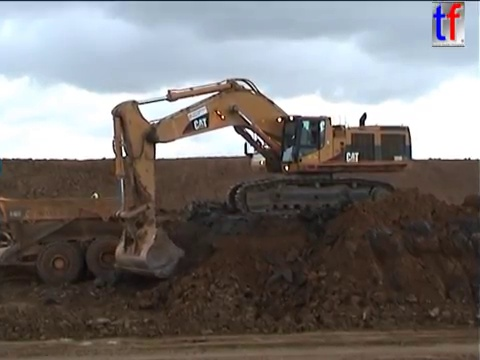excavator: (108, 75, 415, 281)
truck: (1, 195, 158, 286)
worker: (88, 188, 100, 212)
